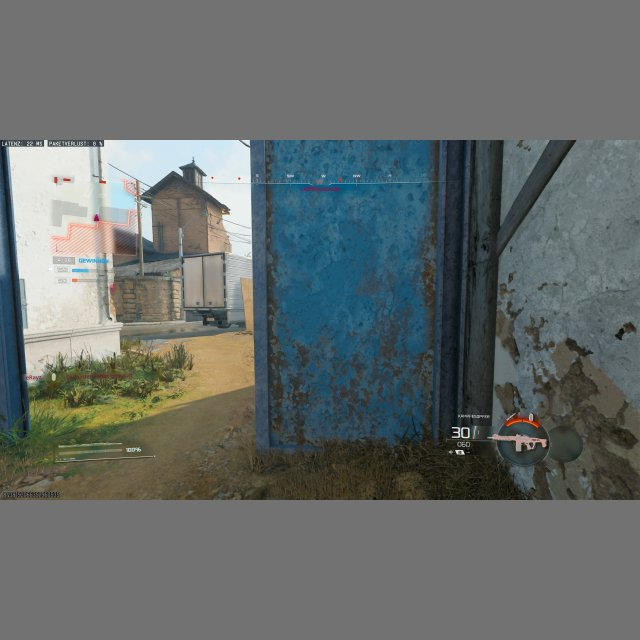player: (490, 380, 576, 496)
